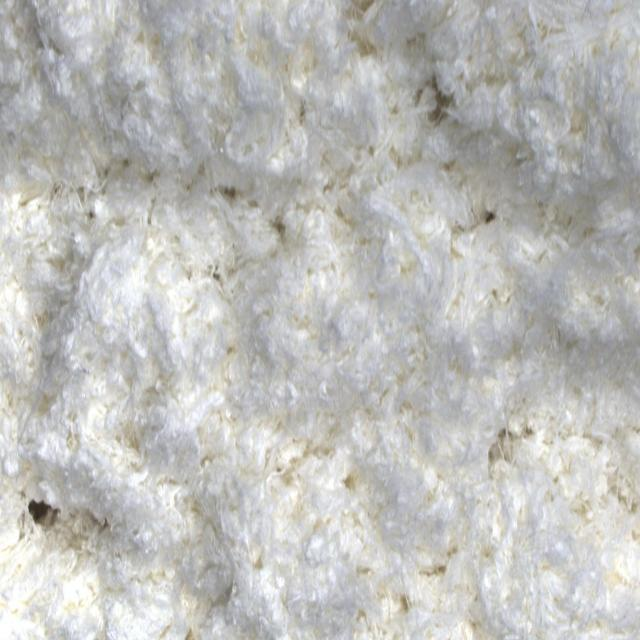dust: (20, 496, 72, 543)
